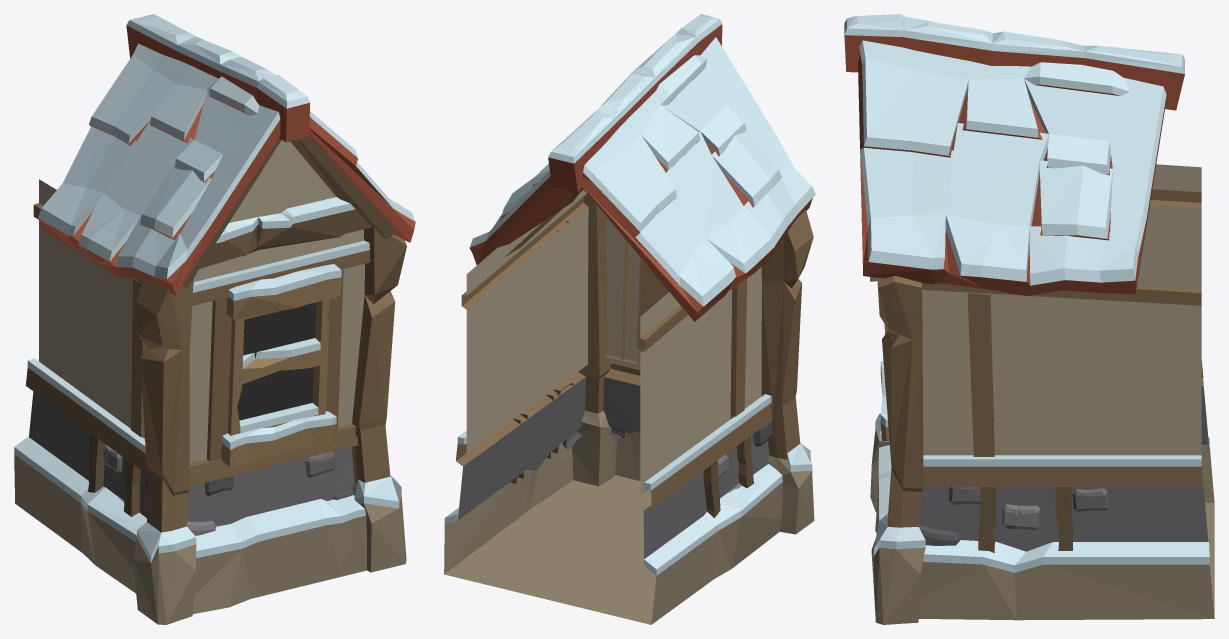
File: SM_Bld_House_Window_01_Snow.gltf
3 views of the same model, side by side, from view 1: azimuth 30°, elevation 25°; view 2: azimuth 150°, elevation 25°; view 3: azimuth 270°, elevation 25° (orthographic). The views are drawn at different scales.
Parts seen in each view (by area): view 1: SM_Bld_House_Window_01_Snow; view 2: SM_Bld_House_Window_01_Snow; view 3: SM_Bld_House_Window_01_Snow.
Boxes of the visible parts, box(x1,y1,x2,y2) form: SM_Bld_House_Window_01_Snow: box(14, 14, 415, 624); SM_Bld_House_Window_01_Snow: box(444, 14, 815, 624); SM_Bld_House_Window_01_Snow: box(844, 14, 1214, 624).
Bounding box in the file's own units: 2.14 × 3.97 × 2.47.
Materials: 1 (1 with a texture image).
